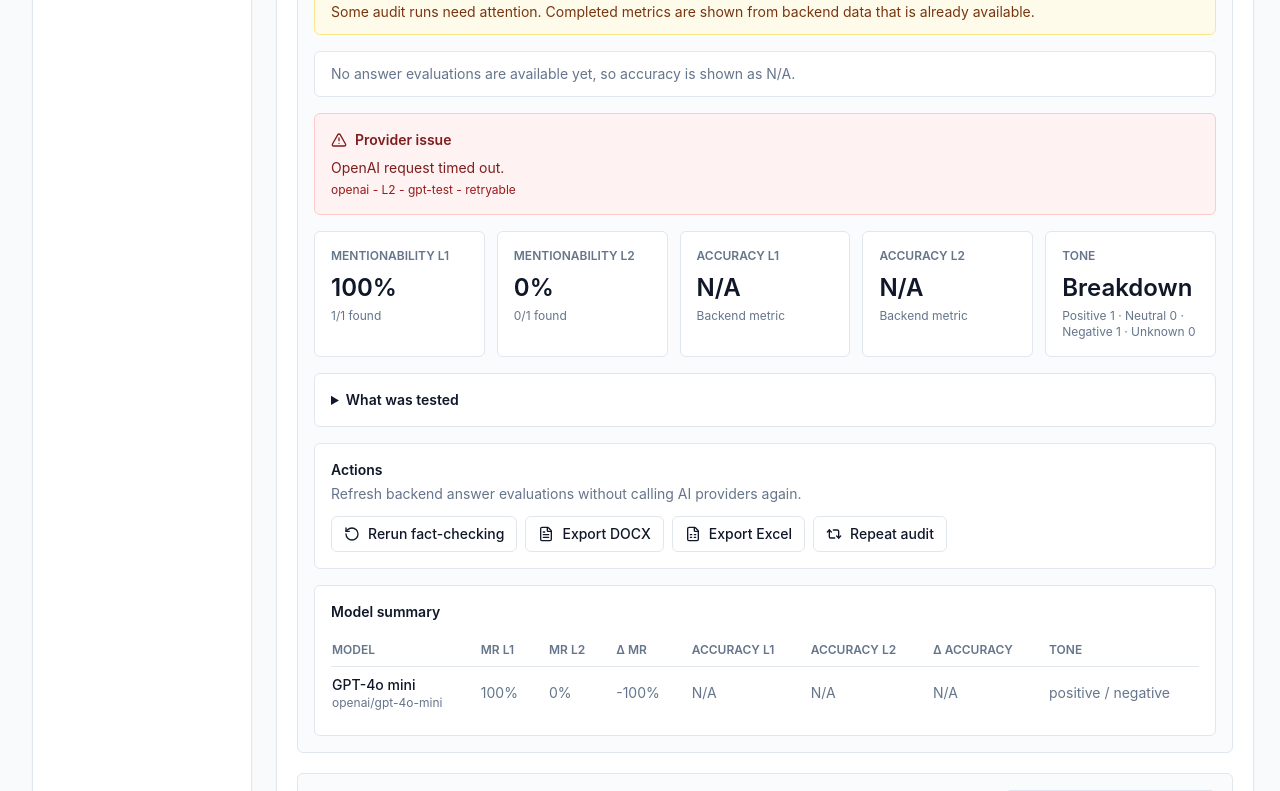
Scenario: audit summary page › renders header metadata and a collapsible tested scope
(page scrolled)
What coordinates should you click on to do the following:
click the heading "What was tested"
I would click on:
 (402, 400)
Its box is [346, 391, 459, 408].
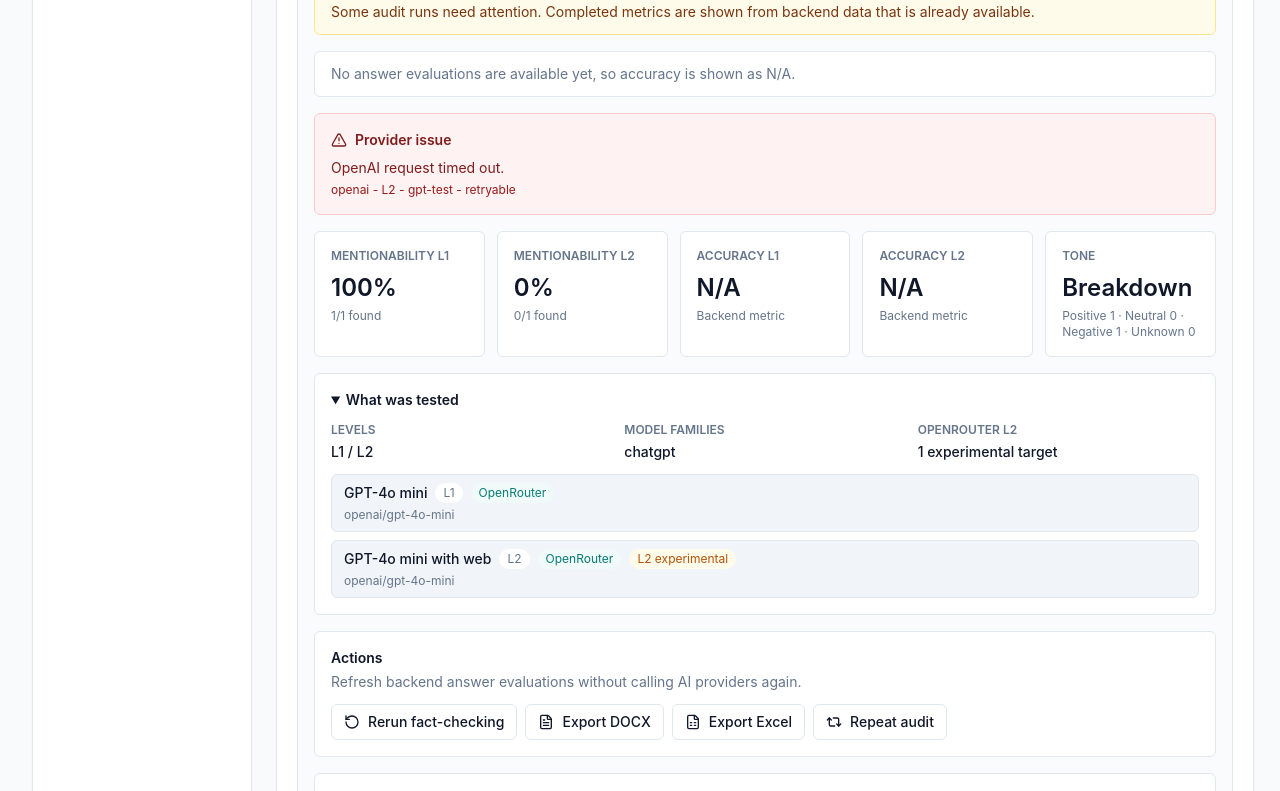
Check: the text "Levels" is shown, box [331, 422, 376, 437]
Check: the text "L1 / L2" is shown, box [331, 443, 373, 460]
Check: the text "Model families" is shown, box [624, 422, 725, 437]
